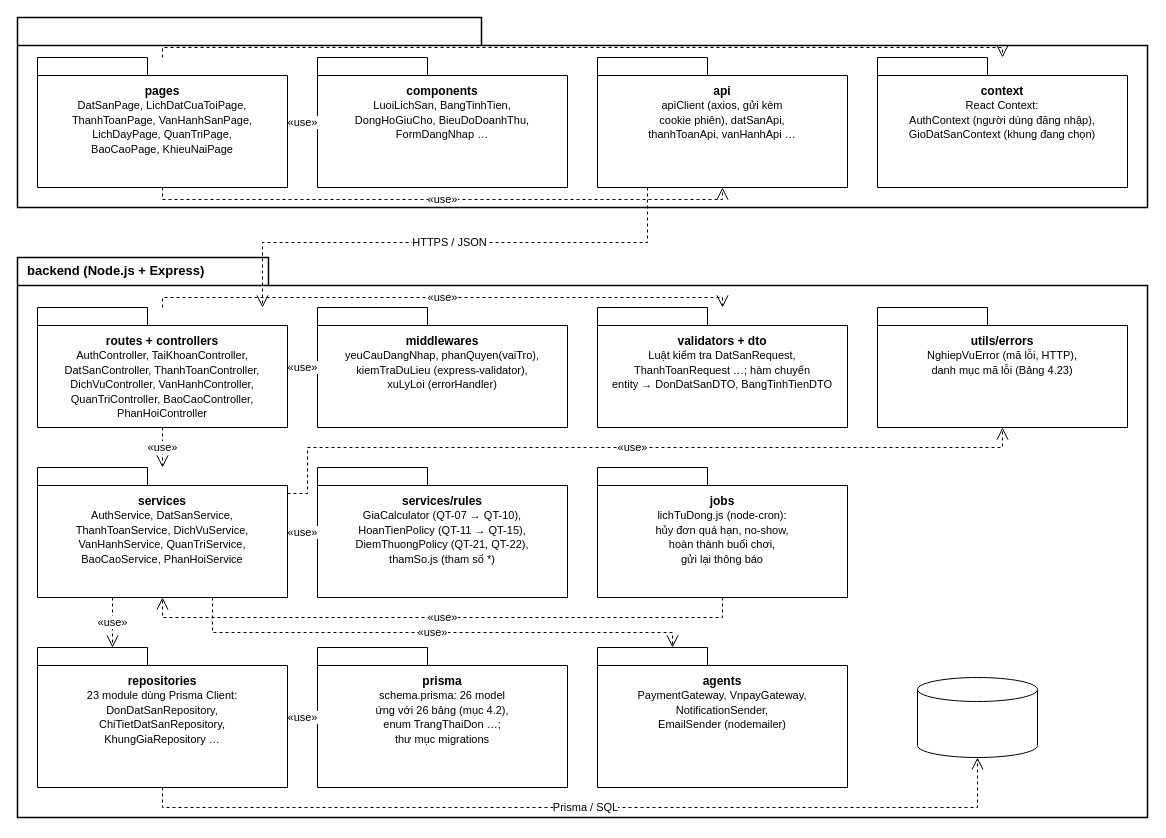
Some shapes in this 1166 by 838 pixel diagram are drawn without their labels. The shapes that lost their labels are listed below. From the top down, each one's box as (x1, y1, x2, y2) in pixels, then its label:
(16, 16, 1148, 208): frontend (React + Vite + Ant Design) – lớp trình diễn
(916, 676, 1038, 758): MySQL 8
